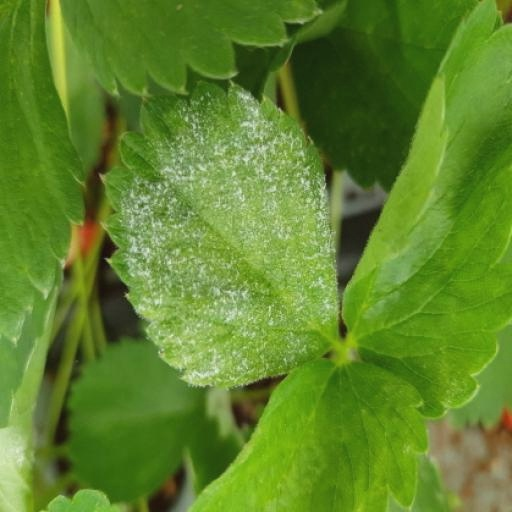Powdery Mildew Leaf: (173, 123, 413, 432), (447, 0, 511, 253)
